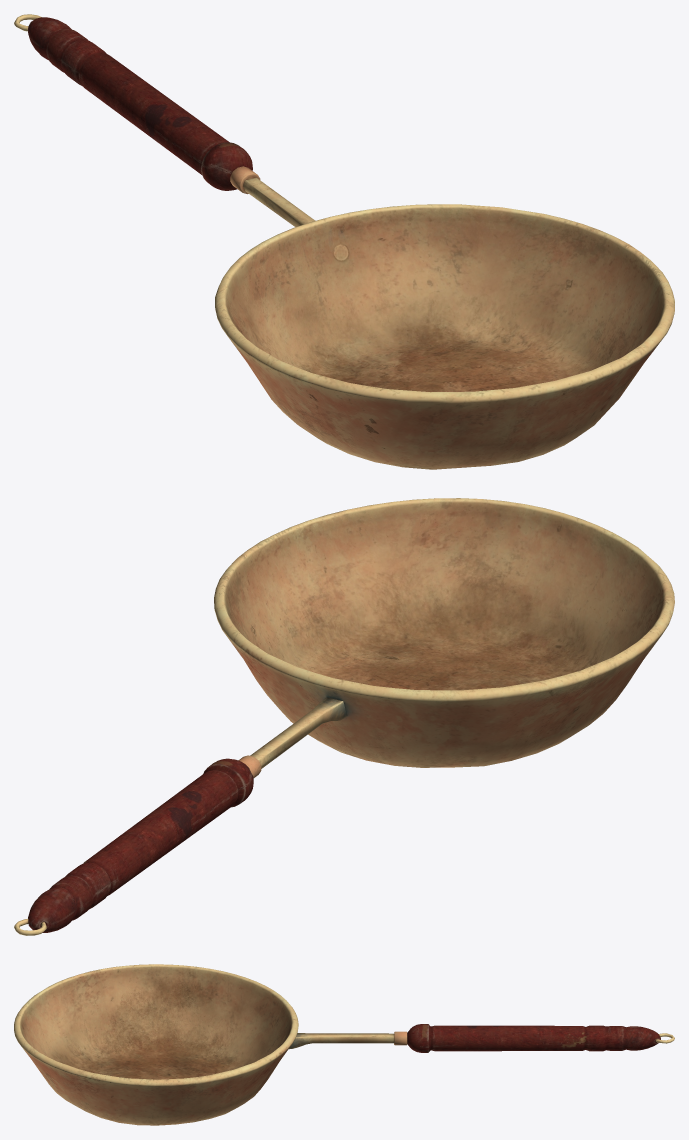
File: brass_pan_01.glb
The picture shows the model from 3 angles, top to bottom: view 1: azimuth 30°, elevation 25°; view 2: azimuth 150°, elevation 25°; view 3: azimuth 270°, elevation 25°; orthographic projection. The views are drawn at different scales.
Visible parts, largest first — view 1: brass_pan_01; view 2: brass_pan_01; view 3: brass_pan_01.
Part boxes in pixels (left/top/right/bottom): brass_pan_01: left=14, top=14, right=674, bottom=469; brass_pan_01: left=14, top=498, right=674, bottom=935; brass_pan_01: left=14, top=964, right=674, bottom=1125.
Bounding box in the file's own units: 0.1913 × 0.0525 × 0.4497.
1 material, 1 textured.
